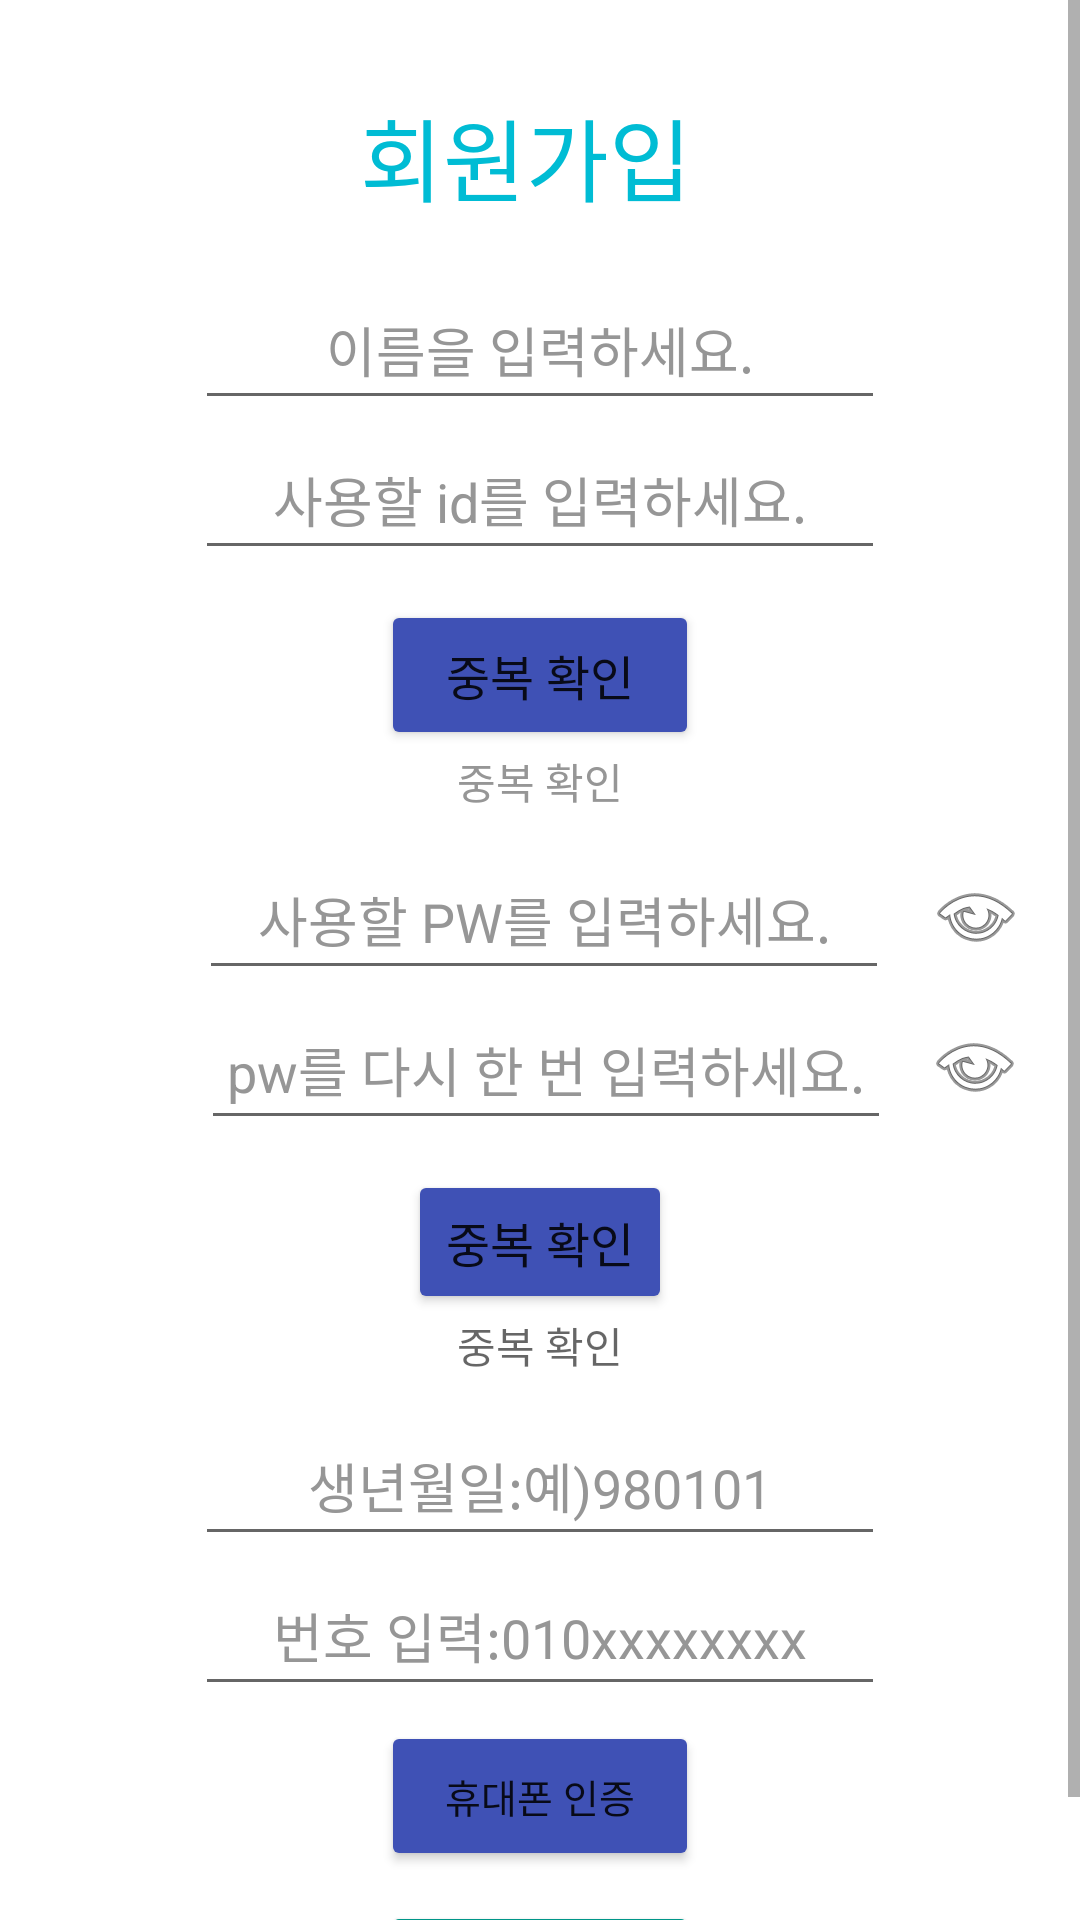

Icons on this 1080w x 1920h Android screen, each with the point to tap as (x,y):
view: (976,917), (975,1067)
